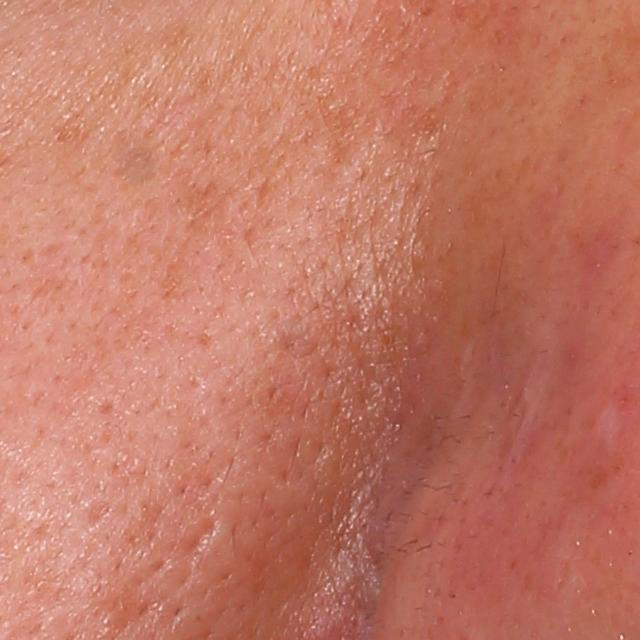atrophic_scar: (462, 323, 560, 461), (180, 513, 222, 555), (82, 496, 114, 529)
